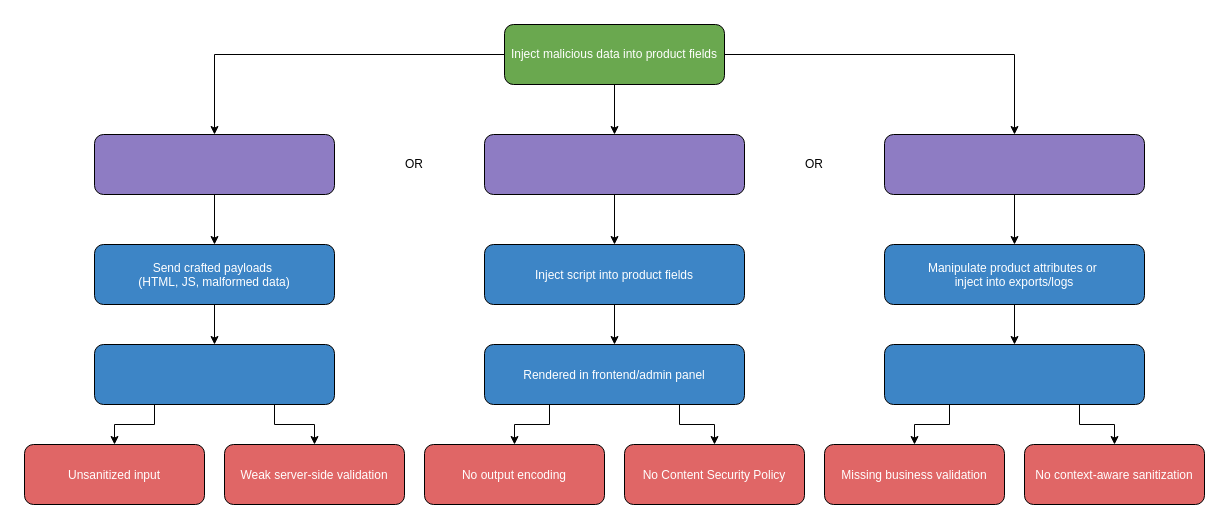
Some shapes in this 1222 by 522 pixel diagram are drawn without their labels. Each missing label, with the centre of its shape:
"Abuse business logic / downstream systems" goes at (1014,164).
"Execute stored malicious content (XSS)" goes at (614,164).
"Identify controllable inputs" goes at (214,164).
"Observe stored/rendered behavior" goes at (214,374).
"Trigger unintended behavior (pricing, CSV injection, logs)" goes at (1014,374).
